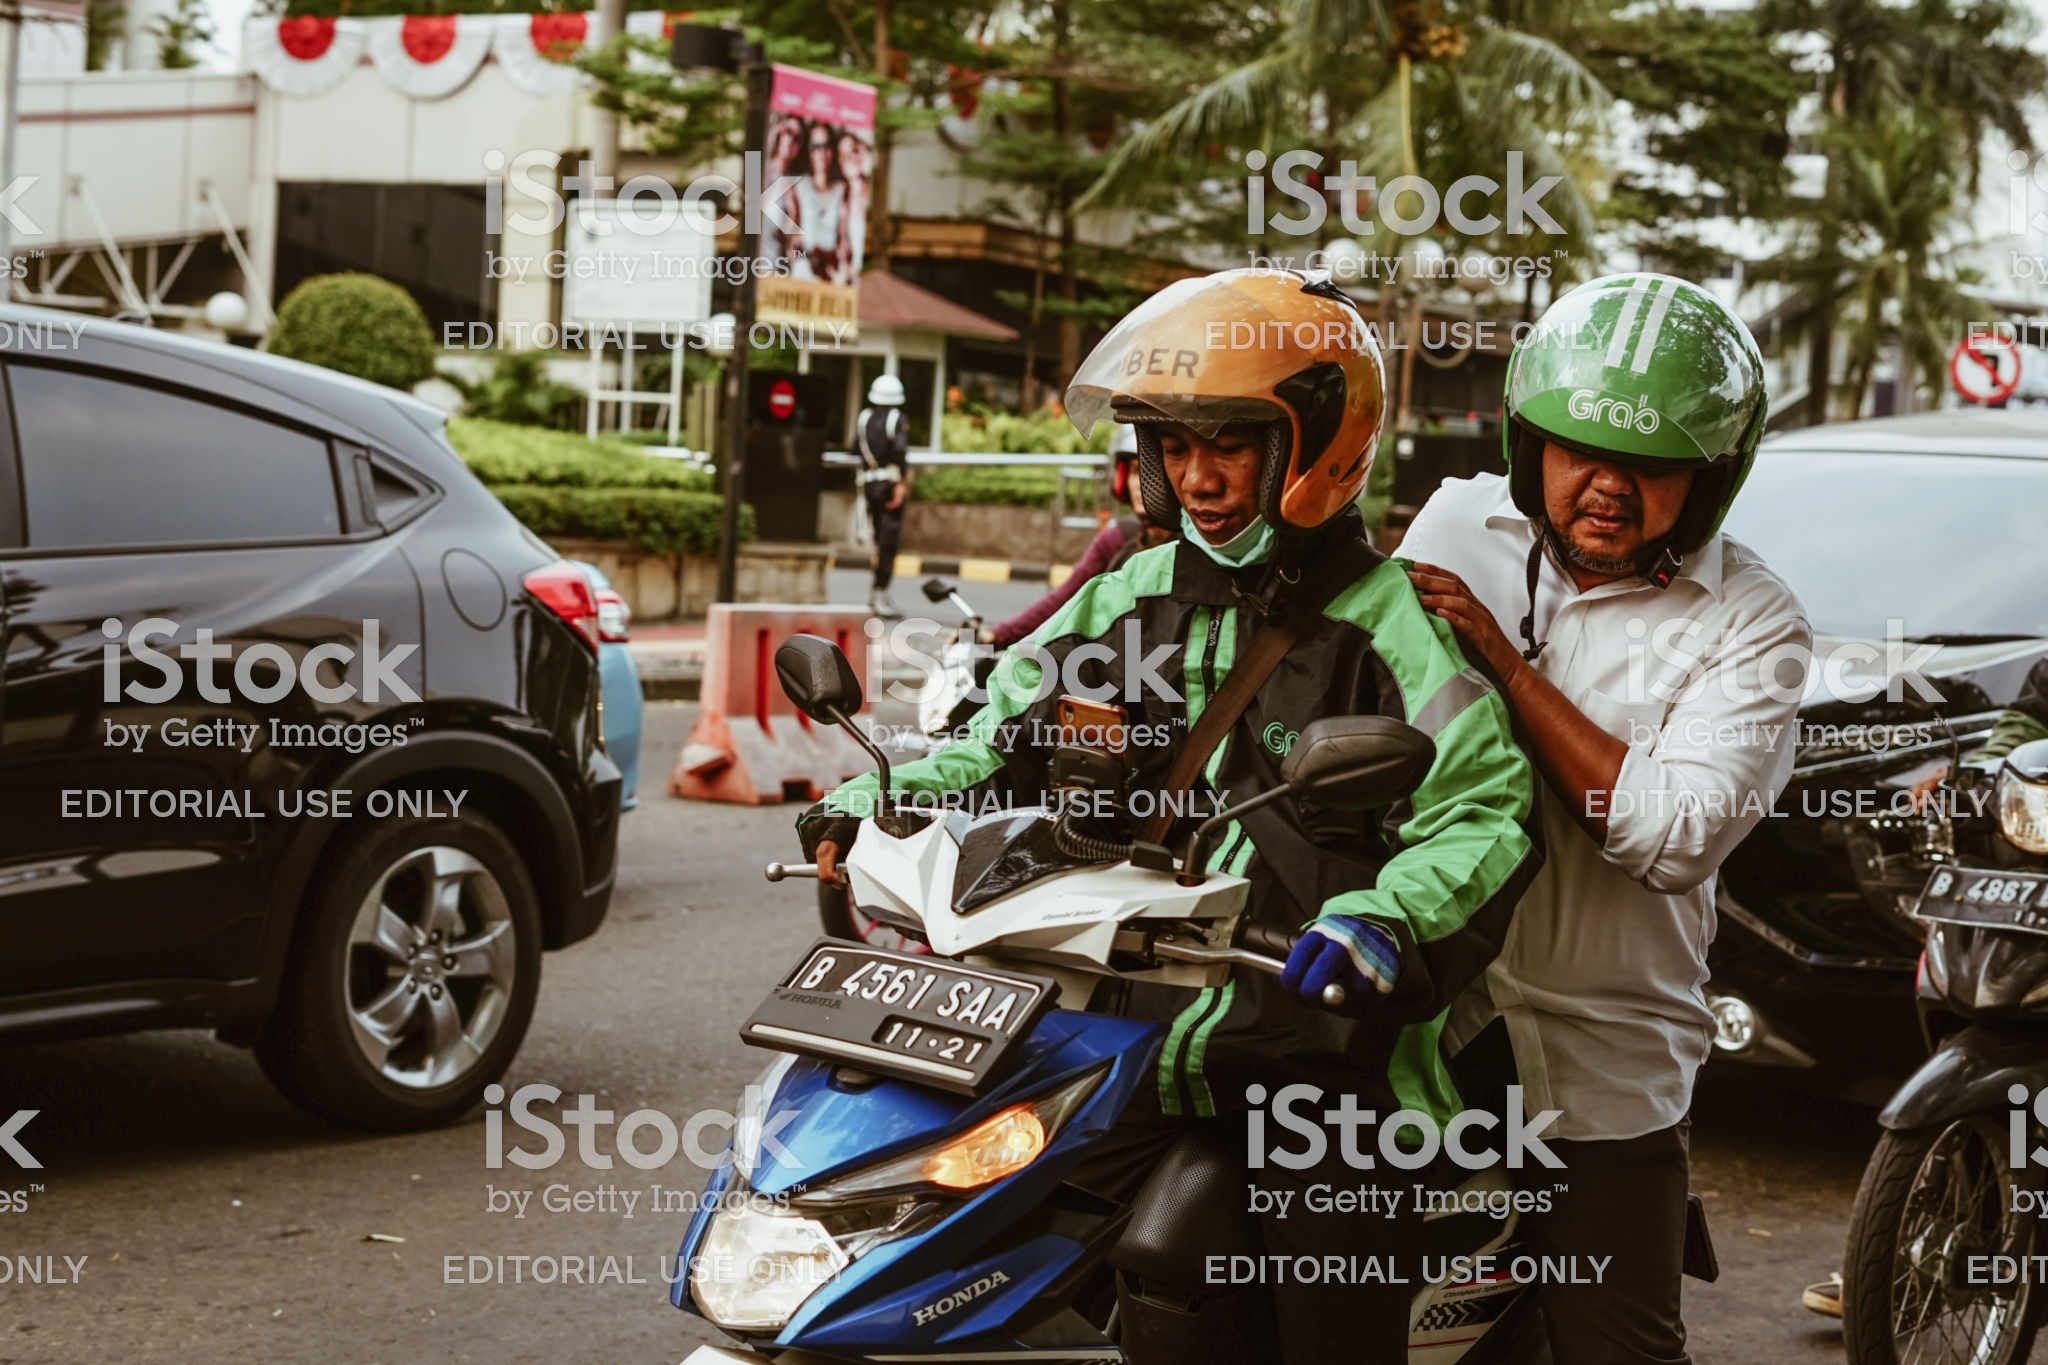helmet: (1090, 271, 1376, 539), (1492, 248, 1785, 498)
